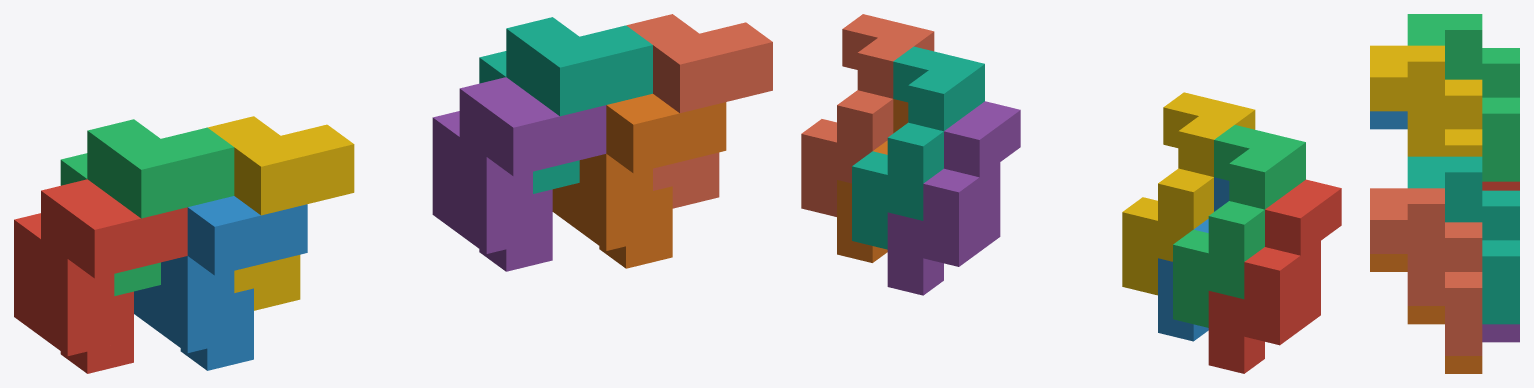
File: tiling.obj
3 views of the same model, side by side, from view 1: azimuth 30°, elevation 25°; view 2: azimuth 150°, elevation 25°; view 3: azimuth 270°, elevation 25° (orthographic). The views are drawn at different scales.
Visible parts, largest first — view 1: copy_1_domain_5, copy_1_domain_1, copy_1_domain_6, copy_1_domain_2, copy_1_domain_3, copy_1_domain_7, copy_1_domain_4, copy_1_domain_8; view 2: copy_1_domain_5, copy_1_domain_1, copy_1_domain_3, copy_1_domain_7, copy_1_domain_8, copy_1_domain_4, copy_1_domain_2, copy_1_domain_6; view 3: copy_1_domain_8, copy_1_domain_4, copy_1_domain_7, copy_1_domain_3, copy_1_domain_6, copy_1_domain_2, copy_1_domain_5, copy_1_domain_1.
Part boxes in pixels (x1=…): copy_1_domain_5: x1=432, y1=77, x2=606, y2=271; copy_1_domain_1: x1=14, y1=179, x2=187, y2=373; copy_1_domain_6: x1=552, y1=93, x2=726, y2=268; copy_1_domain_2: x1=134, y1=196, x2=307, y2=370; copy_1_domain_3: x1=60, y1=119, x2=234, y2=296; copy_1_domain_7: x1=479, y1=17, x2=652, y2=193; copy_1_domain_4: x1=207, y1=116, x2=354, y2=310; copy_1_domain_8: x1=626, y1=14, x2=772, y2=208; copy_1_domain_5: x1=887, y1=101, x2=1020, y2=295; copy_1_domain_1: x1=1208, y1=179, x2=1341, y2=373; copy_1_domain_3: x1=1173, y1=125, x2=1305, y2=327; copy_1_domain_7: x1=852, y1=46, x2=984, y2=249; copy_1_domain_8: x1=801, y1=14, x2=934, y2=216; copy_1_domain_4: x1=1122, y1=92, x2=1255, y2=295; copy_1_domain_2: x1=1158, y1=177, x2=1229, y2=341; copy_1_domain_6: x1=837, y1=99, x2=908, y2=262; copy_1_domain_8: x1=1370, y1=188, x2=1482, y2=355; copy_1_domain_4: x1=1370, y1=45, x2=1482, y2=156; copy_1_domain_7: x1=1407, y1=156, x2=1519, y2=324; copy_1_domain_3: x1=1407, y1=14, x2=1519, y2=181; copy_1_domain_6: x1=1370, y1=254, x2=1482, y2=373; copy_1_domain_2: x1=1370, y1=111, x2=1407, y2=129; copy_1_domain_5: x1=1482, y1=324, x2=1519, y2=342; copy_1_domain_1: x1=1482, y1=181, x2=1519, y2=190.
Size of the model in its own units: 14 by 5 by 4.
